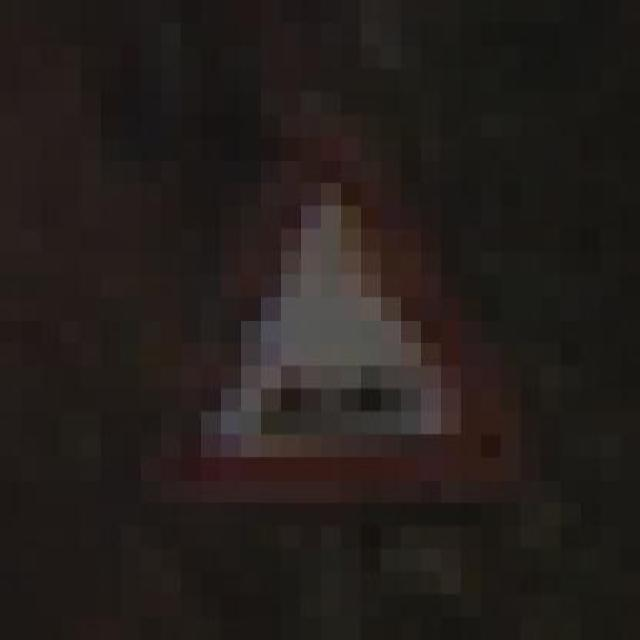Uneven Road: (140, 69, 540, 548)
